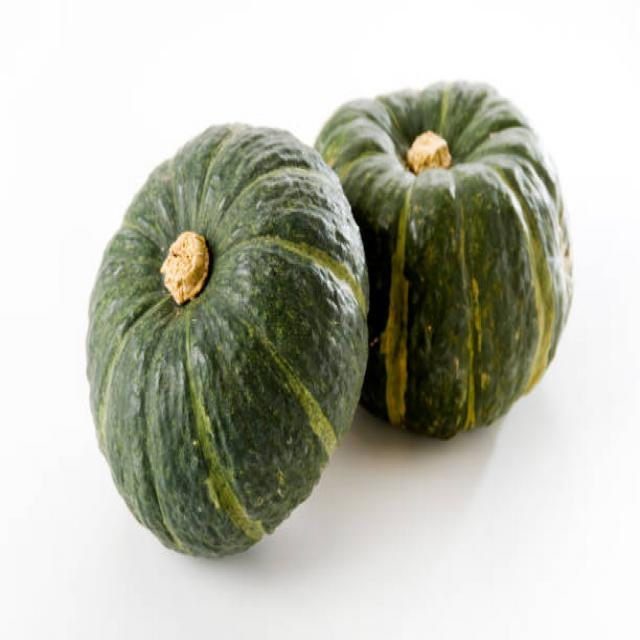pumpkin: (86, 114, 360, 556), (368, 72, 576, 444)
